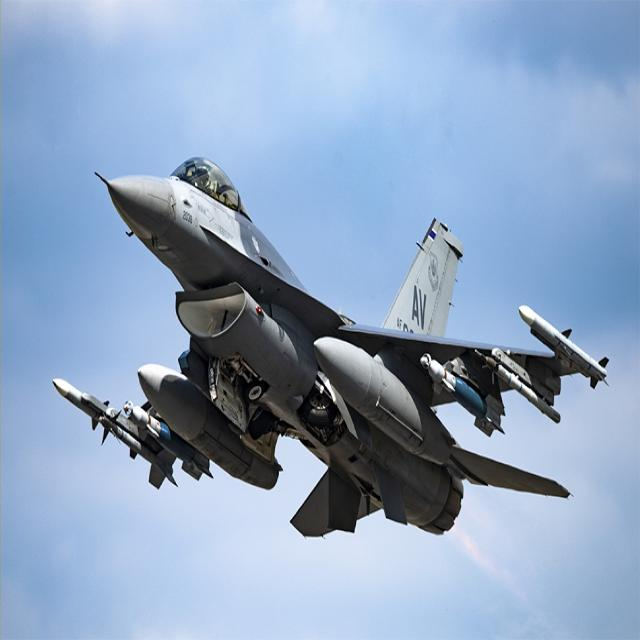MIL_Plane: (52, 156, 609, 541)
